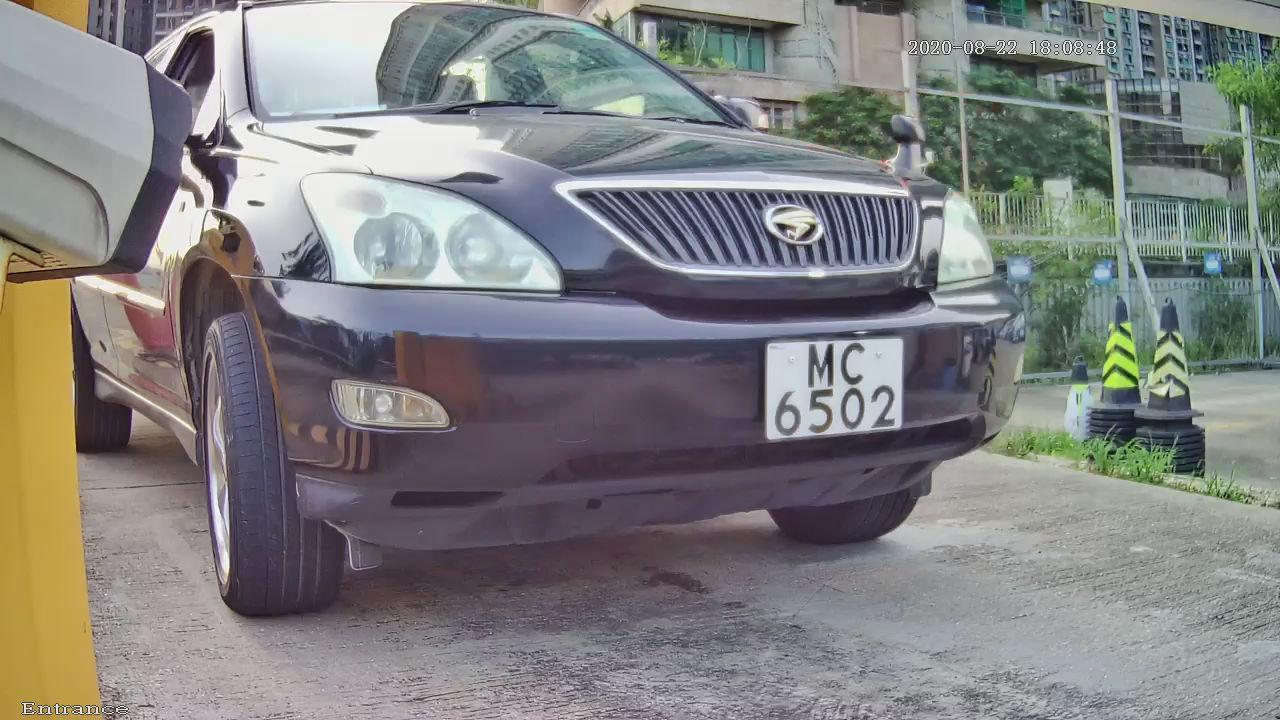Car: (63, 13, 1115, 614)
License Plate: (743, 316, 926, 457)
